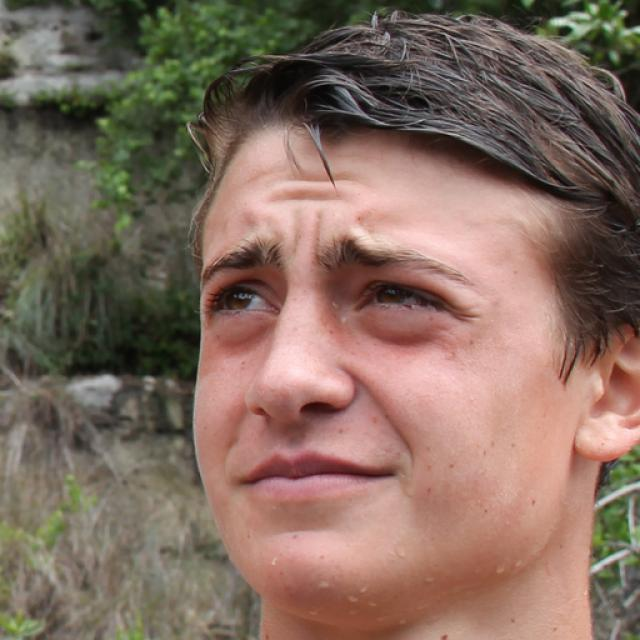disgust: (192, 114, 566, 604)
